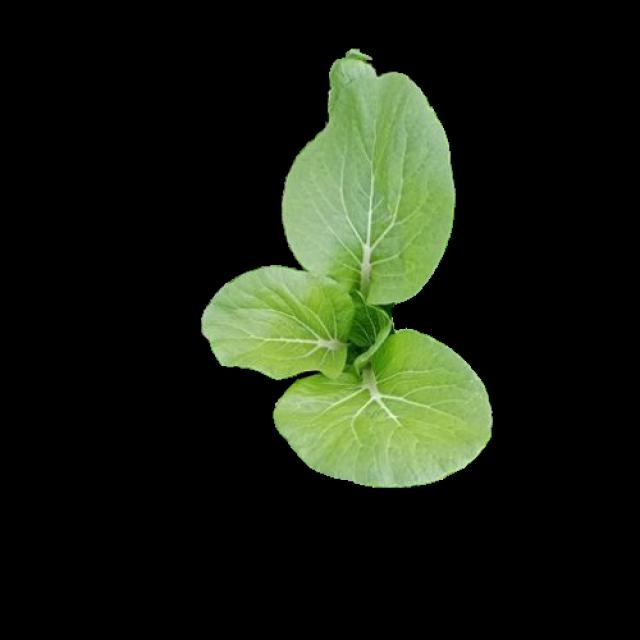healthy: (213, 76, 494, 494)
not-mature: (204, 61, 485, 480)
